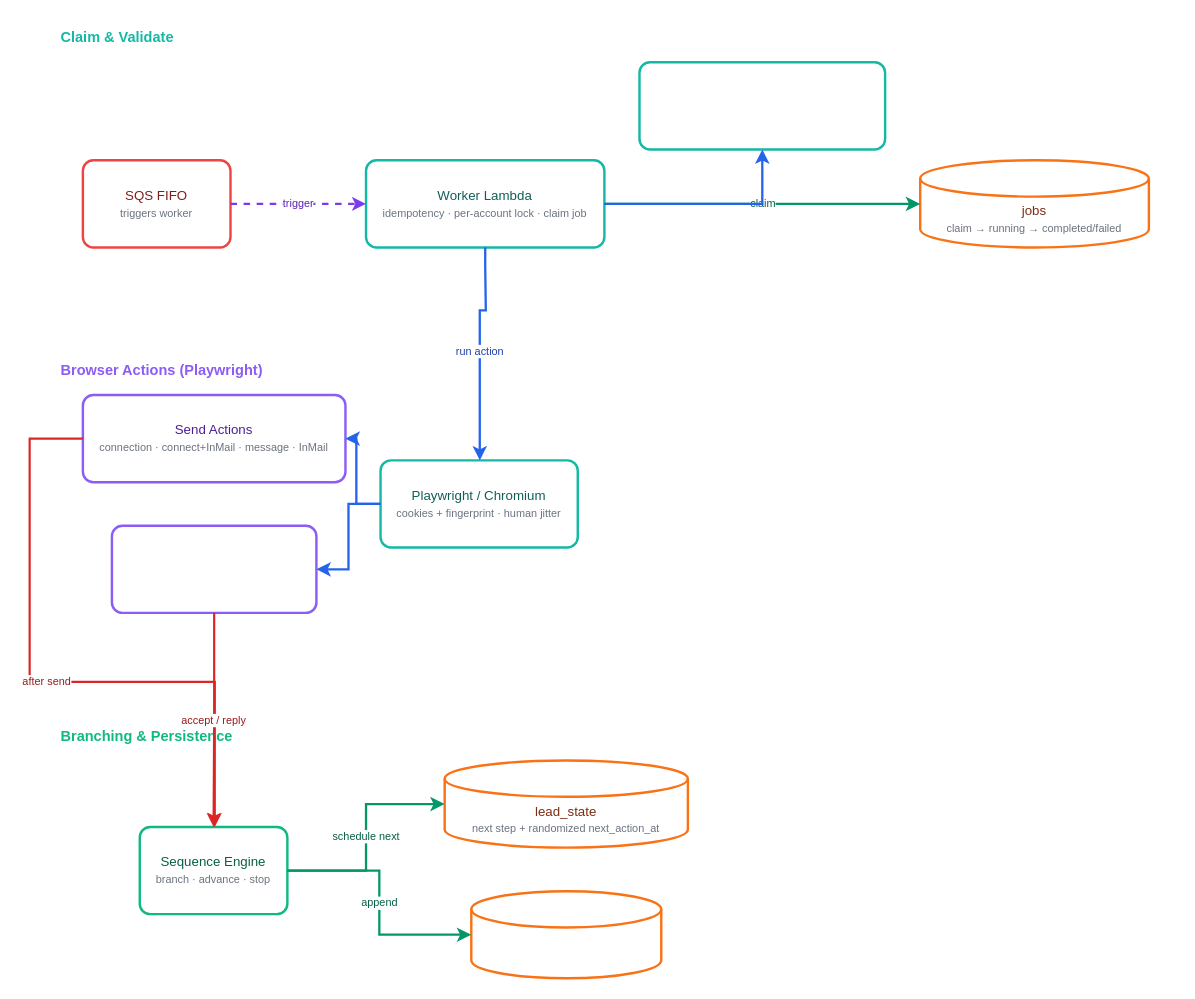
Image size: 1195x999. Some labels were removed from this diagram. Each missing label, with the centre of its shape:
Check Actions acceptance · reply (DOM detectors): point (213, 568)
events immutable audit → all metrics: point (565, 934)
Validate Session decrypt cookies · invalid → reauth_required: point (762, 105)
